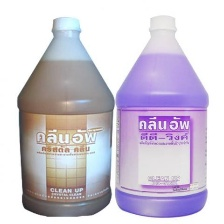cleaning_solution: (110, 12, 211, 220), (15, 13, 115, 219)
